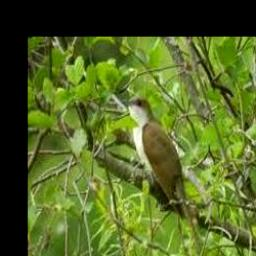Cuckoo: (126, 96, 201, 253)
